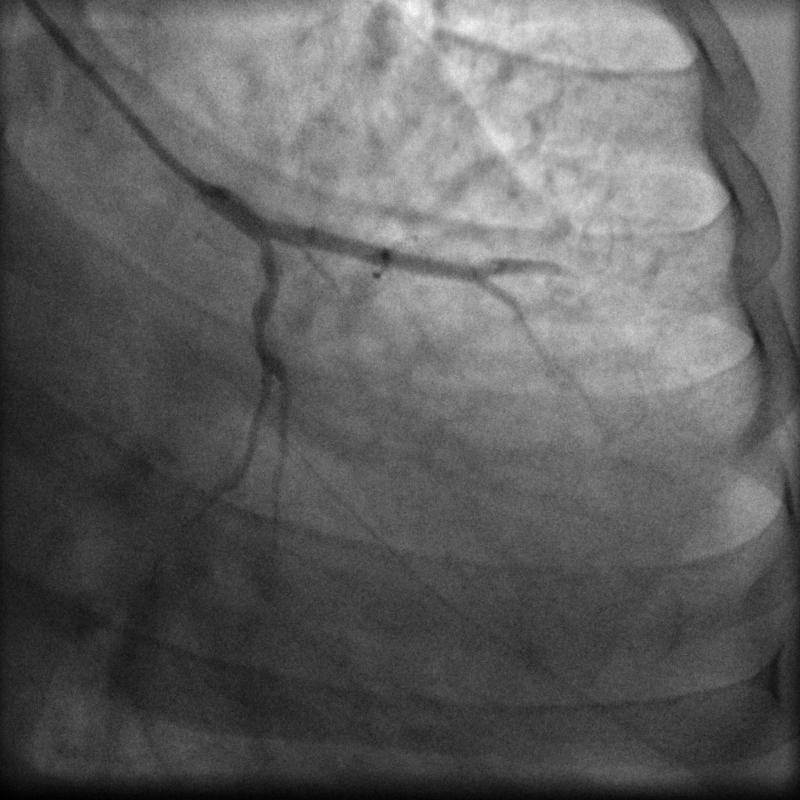Stenosis: (244, 303, 282, 361)
